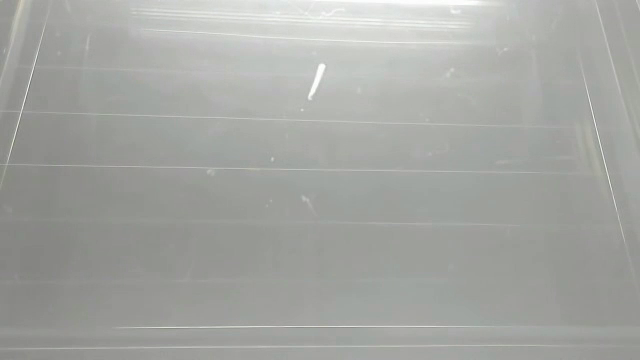alpha: (491, 153, 578, 170), (305, 62, 331, 102)
